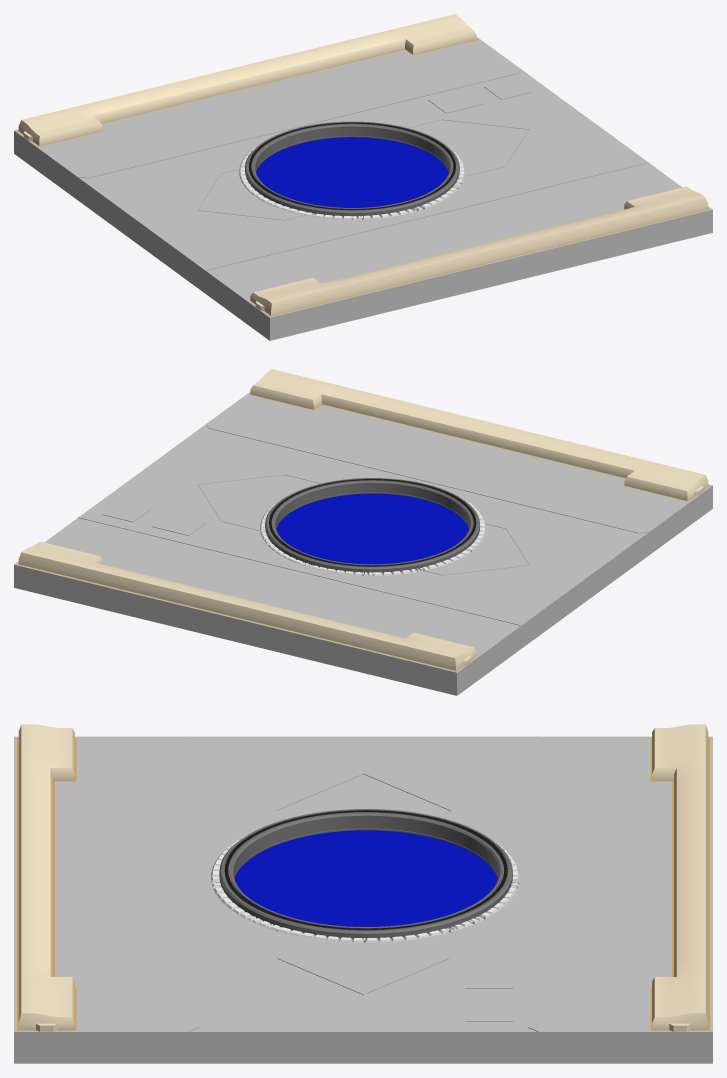
File: WindowWall_FBX.fbx
The picture shows the model from 3 angles, top to bottom: view 1: azimuth 30°, elevation 25°; view 2: azimuth 150°, elevation 25°; view 3: azimuth 270°, elevation 25°; orthographic projection. The views are drawn at different scales.
Visible parts, largest first — view 1: WindowWall; view 2: WindowWall; view 3: WindowWall.
Part boxes in pixels (x1,y1,x2,y2): WindowWall: (14,14,712,340); WindowWall: (14,369,712,695); WindowWall: (14,724,712,1063).
Bounding box in the file's own units: 200 × 14.94 × 200.
